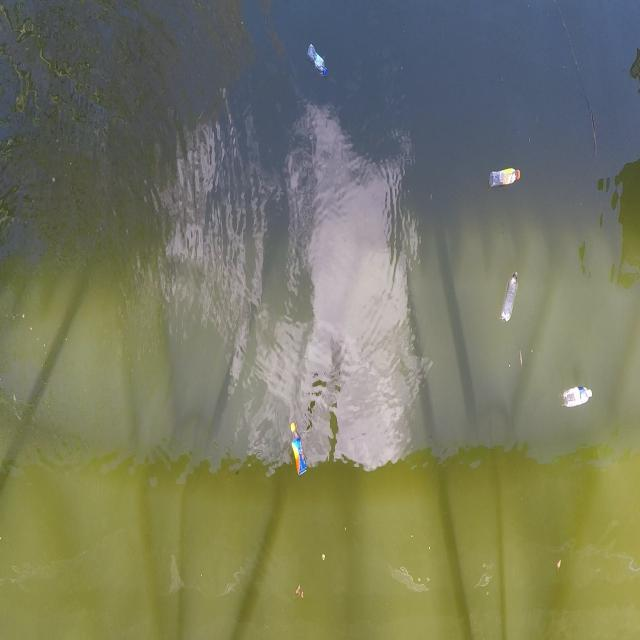Bouteille plastique: (286, 418, 312, 483), (499, 268, 523, 331), (559, 381, 595, 416), (486, 164, 525, 196), (304, 42, 333, 84)
